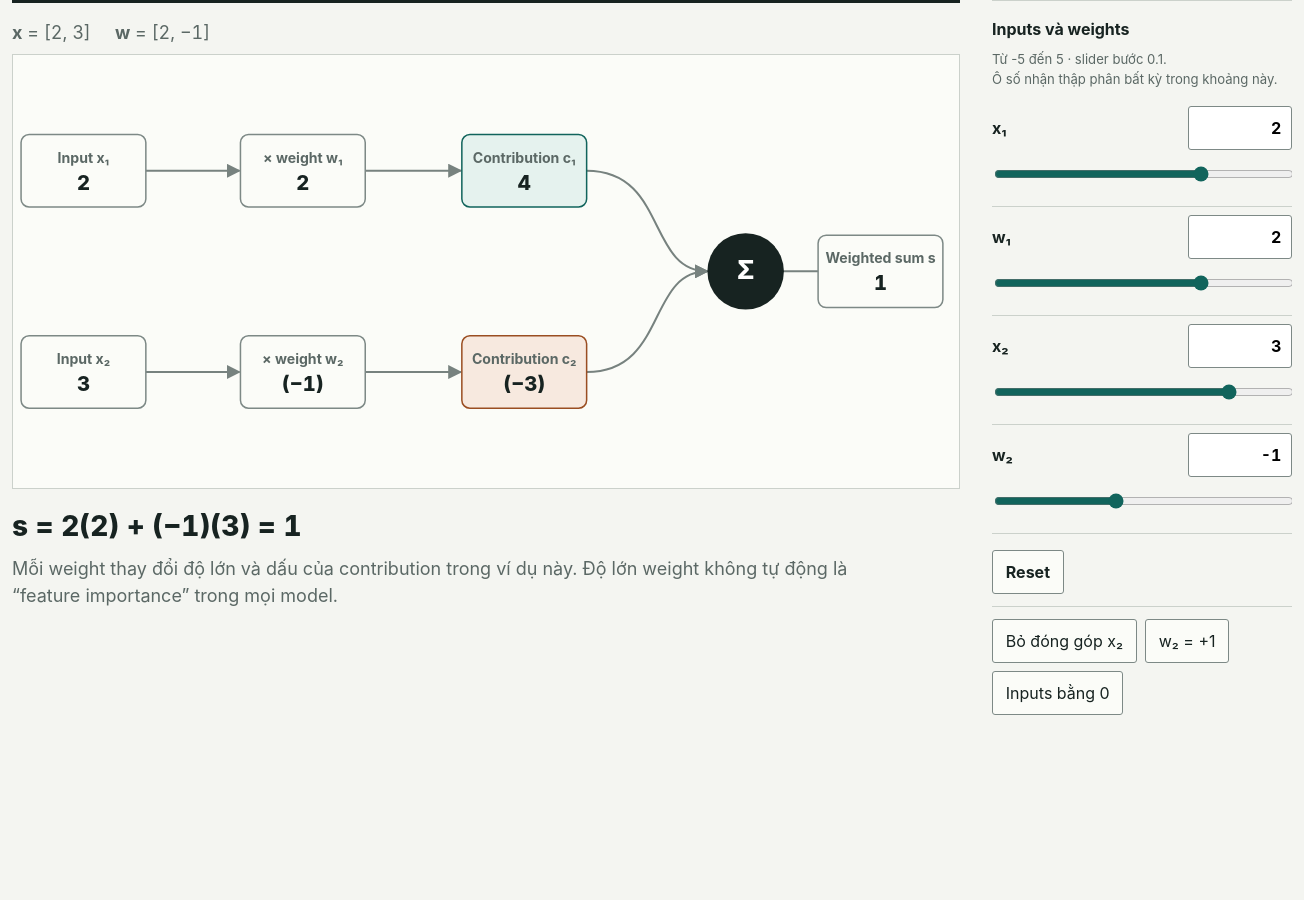
Test: Weighted Inputs › propagates inputs and weights through contributions to s
Expected: the text "s = 2(2) + (−1)(3) = 1" is shown, [12,509,302,543]
Click the button "Bỏ đóng góp x₂": {"x": 1064, "y": 641} [992,619,1137,663]
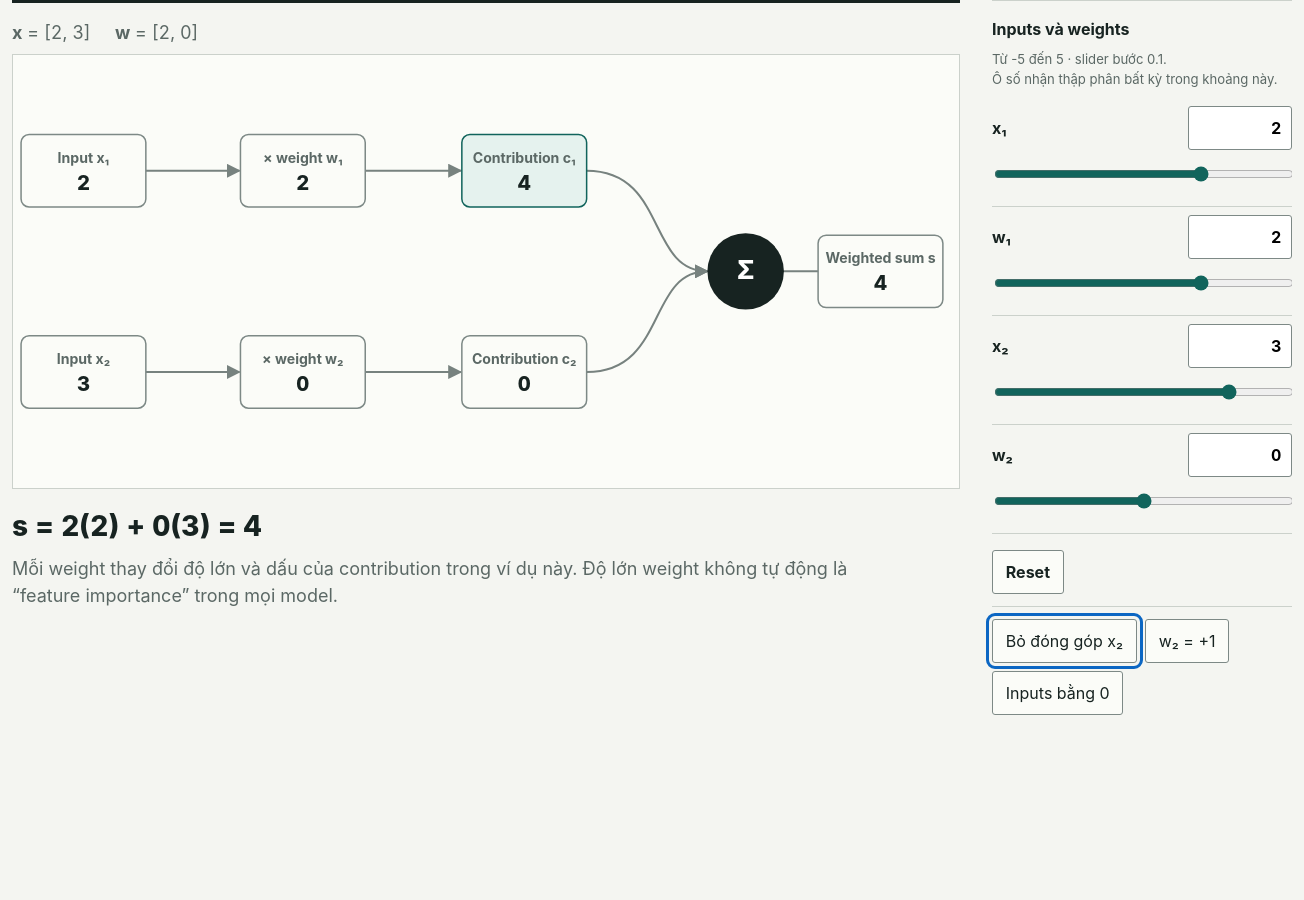
Expected: the text "Contribution c₂" is shown, [472,350,577,367]
Result: the text "s = 2(2) + 0(3) = 4" is shown at [12,509,262,543]
